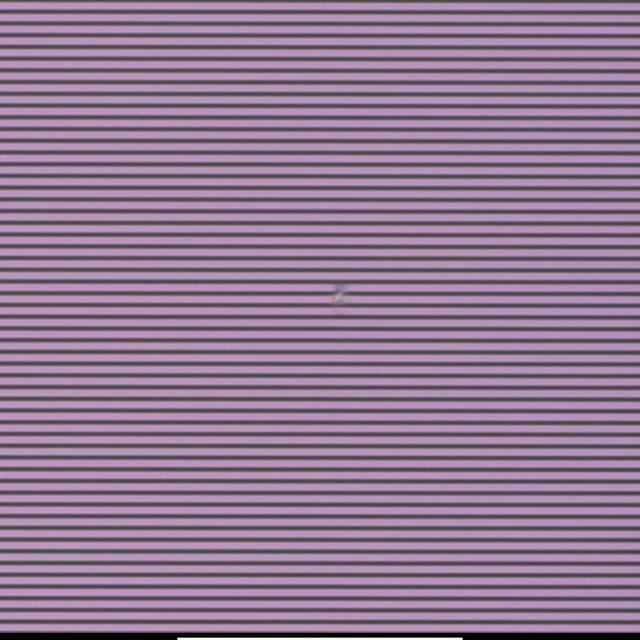nonvisual: (328, 281, 348, 305)
